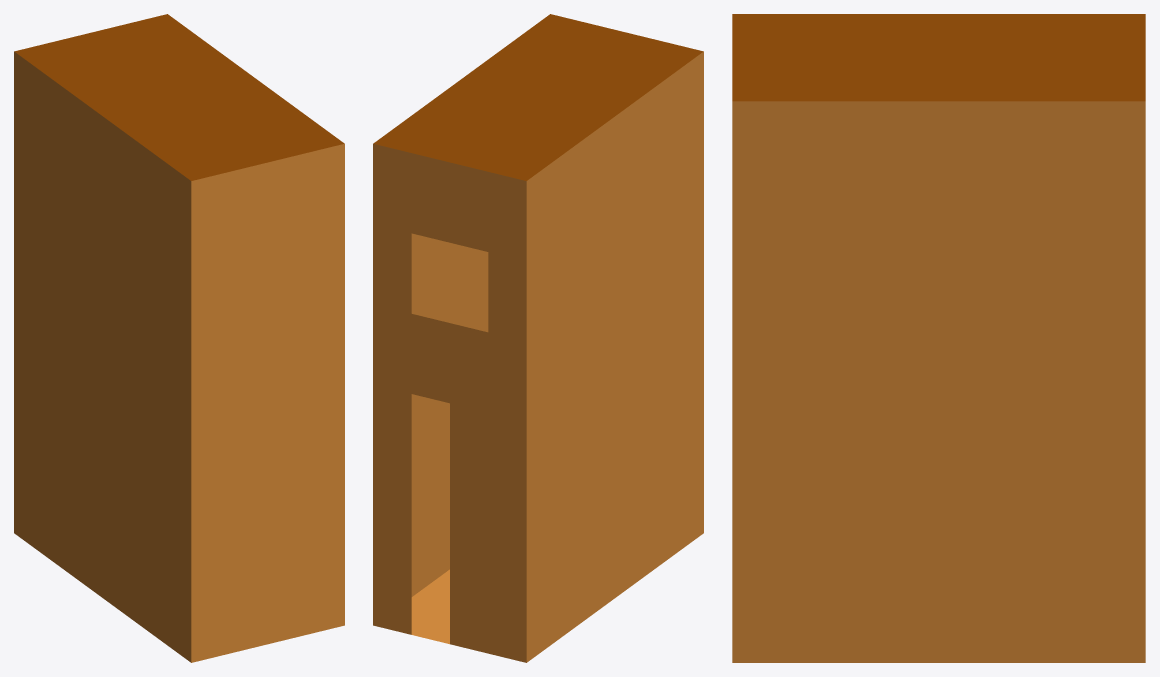
Rendered from orange5.gltf.
3 renders of one model, left to right at view 1: azimuth 30°, elevation 25°; view 2: azimuth 150°, elevation 25°; view 3: azimuth 270°, elevation 25°, orthographic. The views are drawn at different scales.
Visible parts, largest first — view 1: Cube; view 2: Cube; view 3: Cube.
Boxes of the visible parts, x1,y1,x2,y2 form: Cube: (14, 14, 344, 662); Cube: (373, 14, 703, 662); Cube: (732, 14, 1145, 662).
Bounding box in the file's own units: 2 × 6 × 4.
